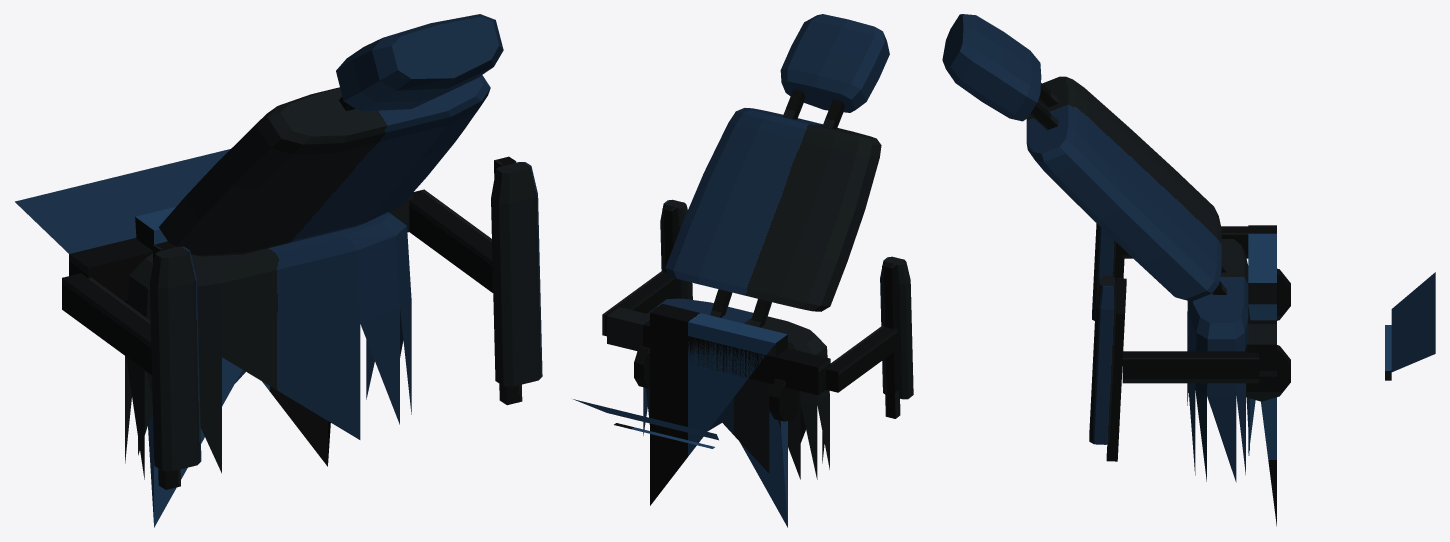
3 renders of one model, left to right at view 1: azimuth 30°, elevation 25°; view 2: azimuth 150°, elevation 25°; view 3: azimuth 270°, elevation 25°, orthographic. The views are drawn at different scales.
Size of the model in its own units: 0.7457 by 1.17 by 1.12.
